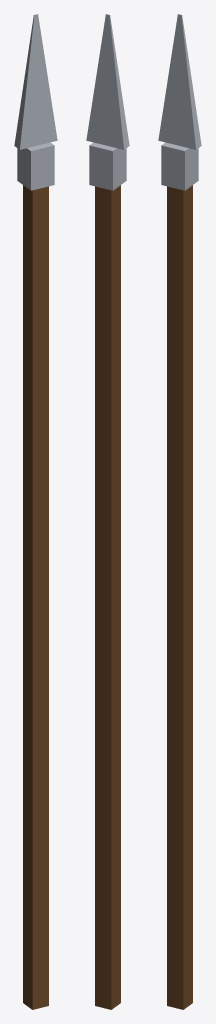
The model's file is spear.glb.
3 views of the same model, side by side, from view 1: azimuth 30°, elevation 25°; view 2: azimuth 150°, elevation 25°; view 3: azimuth 330°, elevation 25° (orthographic).
Parts seen in each view (by area): view 1: spear; view 2: spear; view 3: spear.
Part boxes in pixels (x1=…): spear: x1=14, y1=14, x2=57, y2=1009; spear: x1=86, y1=14, x2=129, y2=1009; spear: x1=158, y1=14, x2=201, y2=1009.
Size of the model in its own units: 0.08 by 2 by 0.05.
